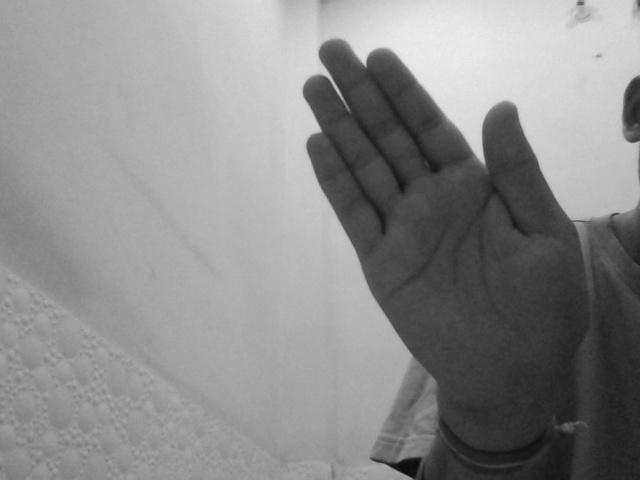Hello: (297, 35, 585, 421)
